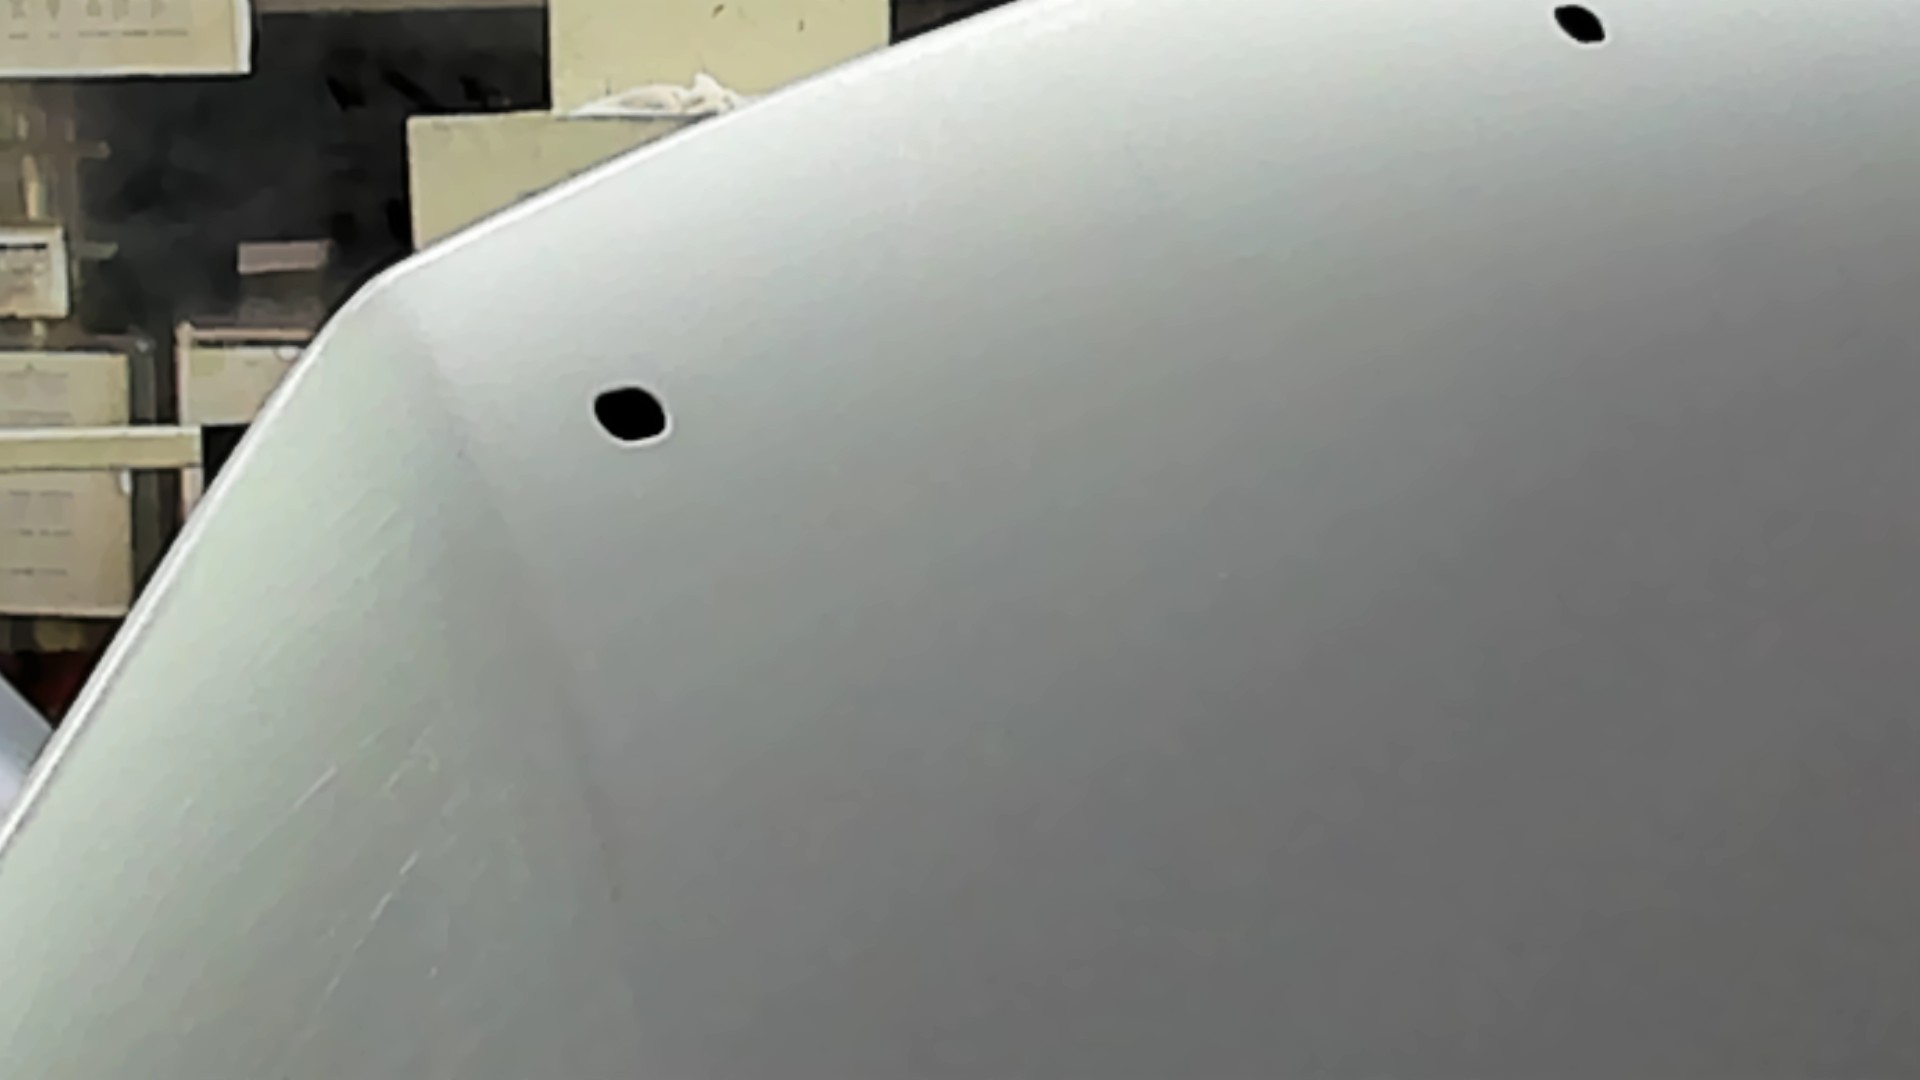amorfo: (584, 378, 670, 444), (1548, 1, 1613, 54)
